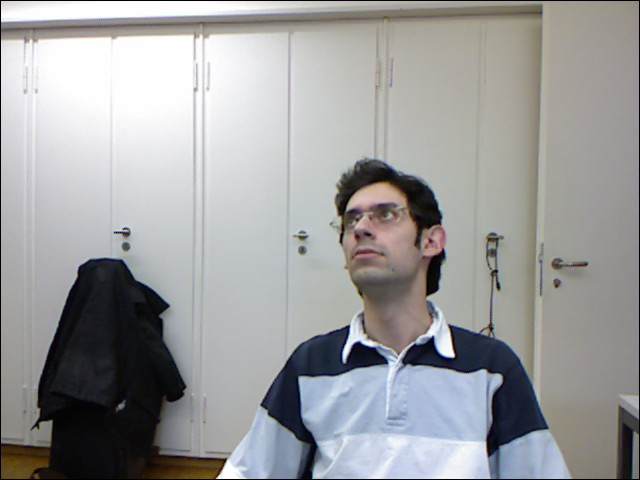deflection: (259, 168, 534, 441)
